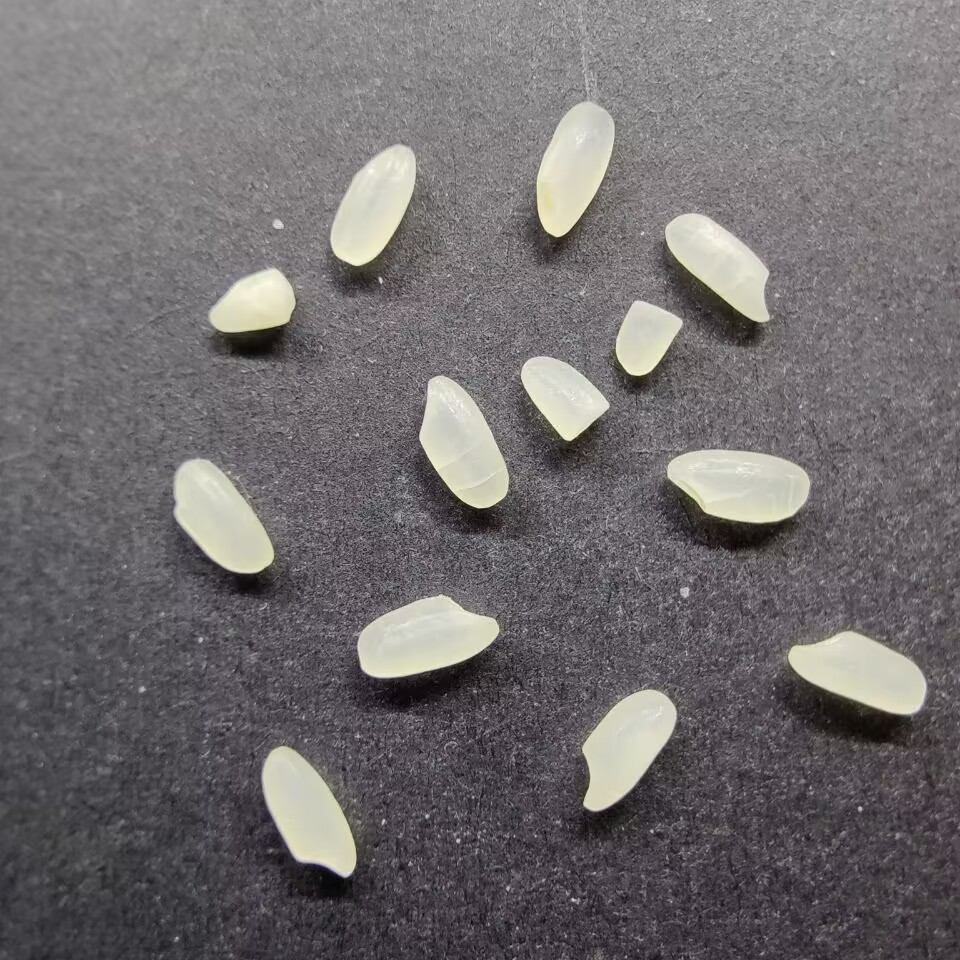broken: (518, 355, 611, 442), (205, 266, 297, 334), (614, 298, 684, 378)
rice: (259, 745, 360, 879), (171, 454, 275, 577), (354, 592, 501, 679), (663, 210, 773, 326), (579, 688, 680, 813), (417, 374, 509, 509), (785, 630, 928, 715), (533, 100, 616, 239), (328, 141, 417, 268), (664, 449, 812, 523)
